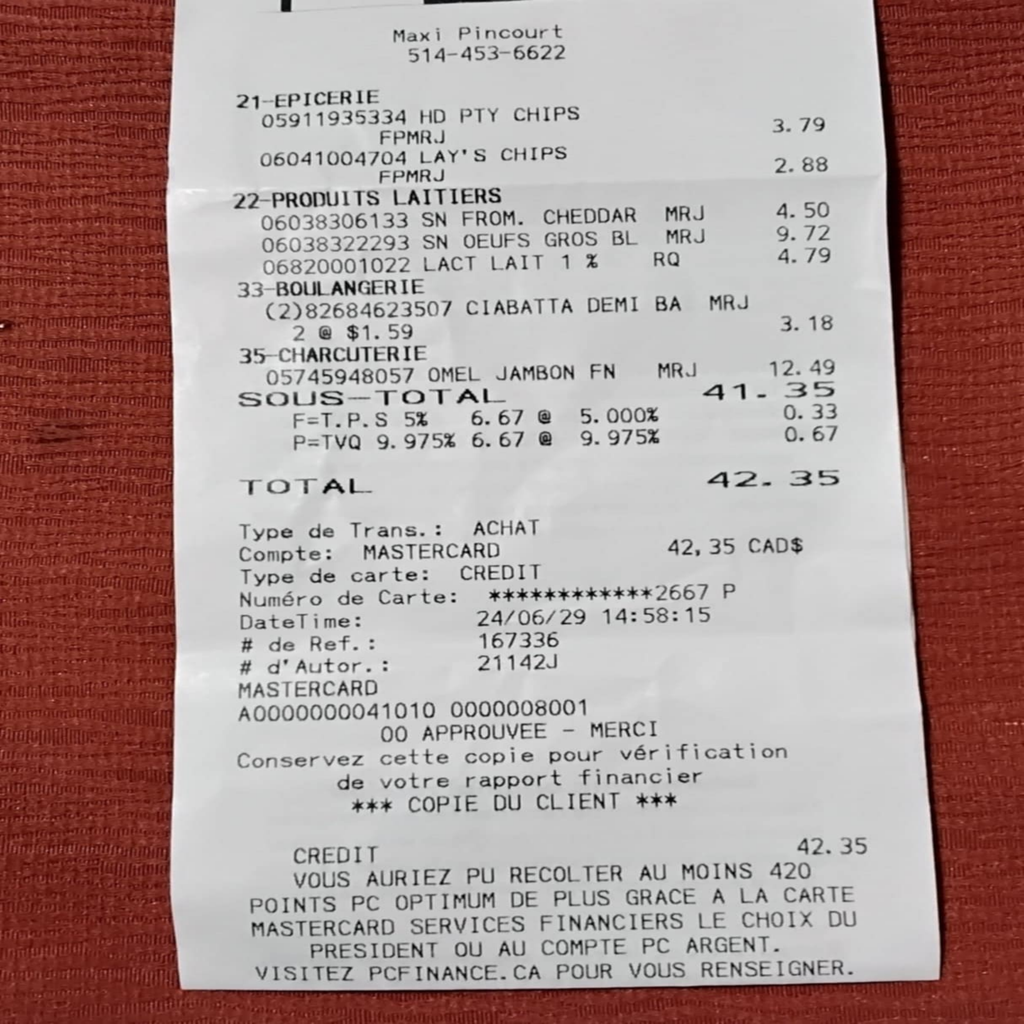recipt: (168, 0, 944, 992)
